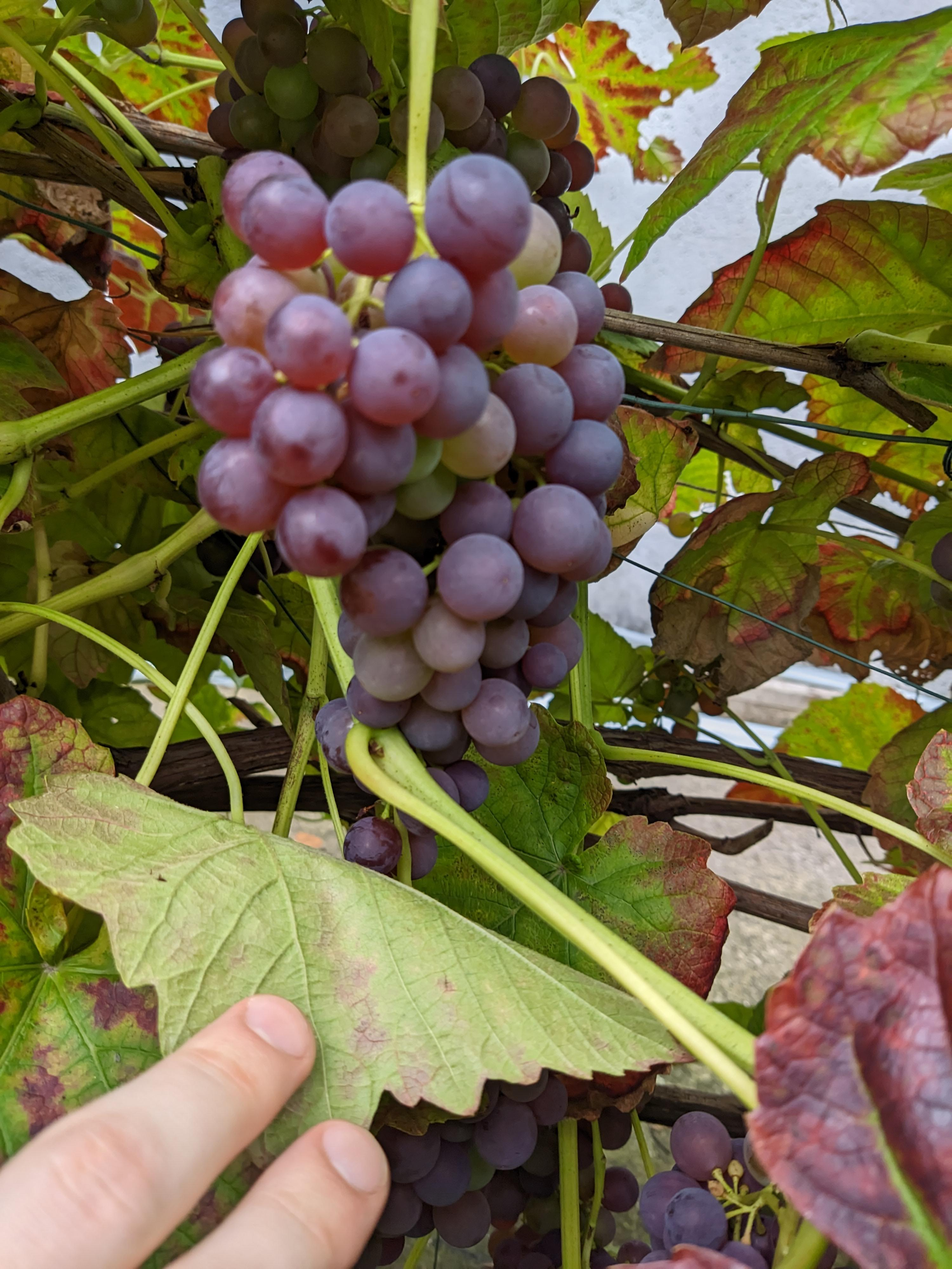Grape Unripe: (189, 154, 627, 883), (210, 2, 600, 203), (364, 1073, 630, 1269), (642, 1114, 793, 1269)
